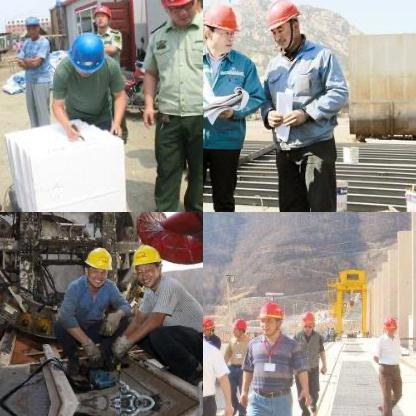Helmet: (259, 0, 304, 50), (203, 0, 243, 54), (66, 30, 106, 74), (129, 239, 163, 285), (82, 242, 112, 284), (157, 0, 198, 26), (258, 299, 284, 333), (378, 312, 398, 338), (92, 4, 112, 26), (297, 309, 315, 333), (232, 312, 248, 338), (22, 14, 40, 36), (203, 312, 216, 337)
